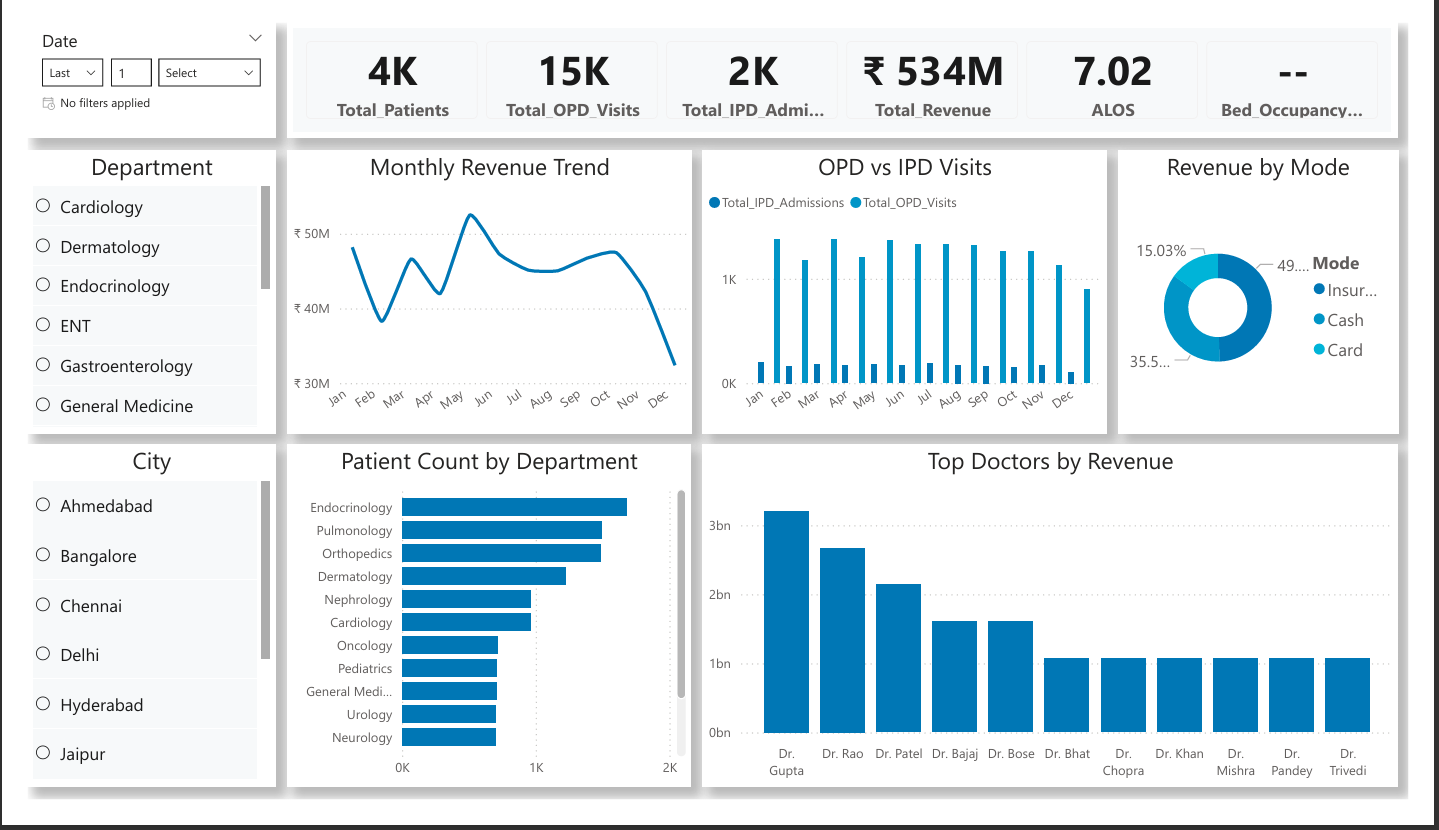

The dashboard page shown, as its layout file describes it:
{"tool":"powerbi","page":{"name":"Overview","canvas":[1280,720],"ordinal":0},"visuals":[{"type":"slicer","fields":{"Values":["Date.Date"]},"box":[0,0,230.1,107],"z":0},{"type":"listSlicer","fields":{"Values":["OPD_Visits.Department"]},"box":[0,118.2,230.1,262.5],"z":1000},{"type":"listSlicer","fields":{"Values":["Patient_Master.City"]},"box":[0,390.6,230.1,318.5],"z":2000},{"type":"cardVisual","fields":{"Data":["Measure.Total_Patients","Measure.Total_OPD_Visits","Measure.Total_IPD_Admissions","Measure.Total_Revenue","ipd_Occupacy.ALOS","ipd_Occupacy.Bed_Occupancy_Rate"]},"box":[241.3,0,1030,107],"z":3000},{"type":"lineChart","title":"Monthly Revenue Trend","fields":{"Category":["Date.MonthName"],"Y":["Measure.Total_Revenue"]},"box":[241.3,118.2,374.4,262.5],"z":4000},{"type":"clusteredColumnChart","title":"OPD vs IPD Visits","fields":{"Category":["Date.MonthName"],"Y":["Measure.Total_IPD_Admissions","Measure.Total_OPD_Visits"]},"box":[625.7,118.2,375.7,262.5],"z":5000},{"type":"donutChart","title":"Revenue by Mode","fields":{"Category":["Billing.Mode"],"Y":["Measure.Total_Revenue"]},"box":[1011.3,118.2,260,262.5],"z":6000},{"type":"barChart","title":"Patient Count by Department","fields":{"Category":["OPD_Visits.Department"],"Y":["Measure.Department_Patient_Count"]},"box":[241,391,374,318],"z":7000},{"type":"columnChart","title":"Top Doctors by Revenue","fields":{"Y":["Measure.Revenue_By_Doctor"],"Category":["Doctor_Master.Doctor_Name"]},"box":[625.7,390.6,645.6,318.5],"z":8000}]}

Visuals, with their boxes in screenshot pixels (x1, y1, x2, y2), scaled from the page's 1280x720 canvas onto the 1439x830 screenshot:
slicer - Date.Date: select_region(0, 0, 259, 123)
listSlicer - OPD_Visits.Department: select_region(0, 136, 259, 439)
listSlicer - Patient_Master.City: select_region(0, 450, 259, 817)
cardVisual - Measure.Total_Patients x Measure.Total_OPD_Visits: select_region(271, 0, 1429, 123)
"Monthly Revenue Trend" lineChart: select_region(271, 136, 692, 439)
"OPD vs IPD Visits" clusteredColumnChart: select_region(703, 136, 1126, 439)
"Revenue by Mode" donutChart: select_region(1137, 136, 1429, 439)
"Patient Count by Department" barChart: select_region(271, 451, 691, 817)
"Top Doctors by Revenue" columnChart: select_region(703, 450, 1429, 817)
